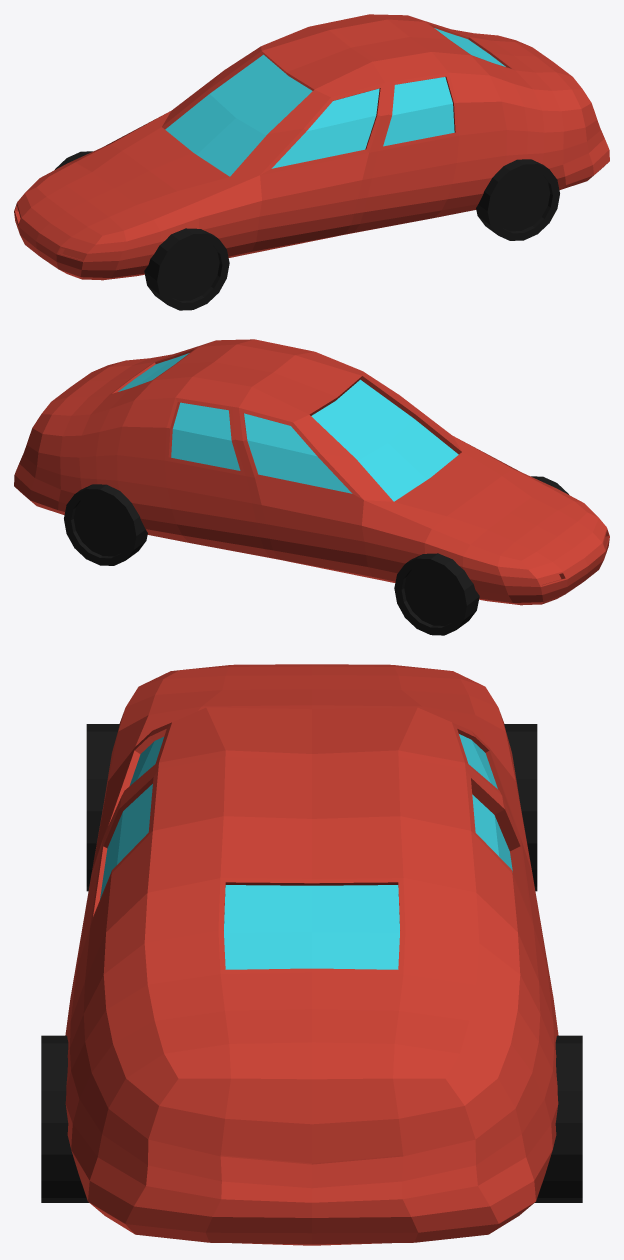
The model's file is Car.fbx.
3 views of the same model, one above another, from view 1: azimuth 30°, elevation 25°; view 2: azimuth 150°, elevation 25°; view 3: azimuth 270°, elevation 25° (orthographic). The views are drawn at different scales.
Parts seen in each view (by area): view 1: Cube; view 2: Cube; view 3: Cube.
Boxes of the visible parts, x1,y1,x2,y2 form: Cube: (14,14,609,310); Cube: (14,339,609,635); Cube: (41,664,582,1245).
Size of the model in its own units: 103 by 238 by 71.52.
